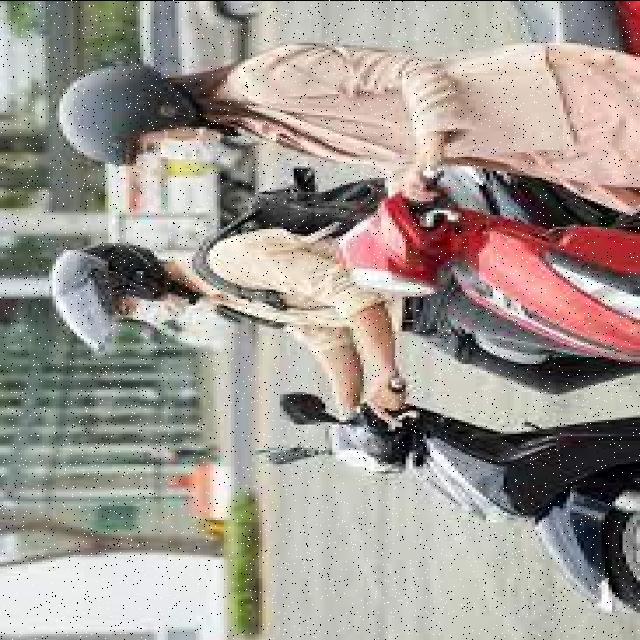Helmet: (58, 61, 200, 166), (45, 240, 175, 352)
